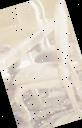Mesa: (0, 7, 70, 80)
Silla: (0, 0, 81, 128)
